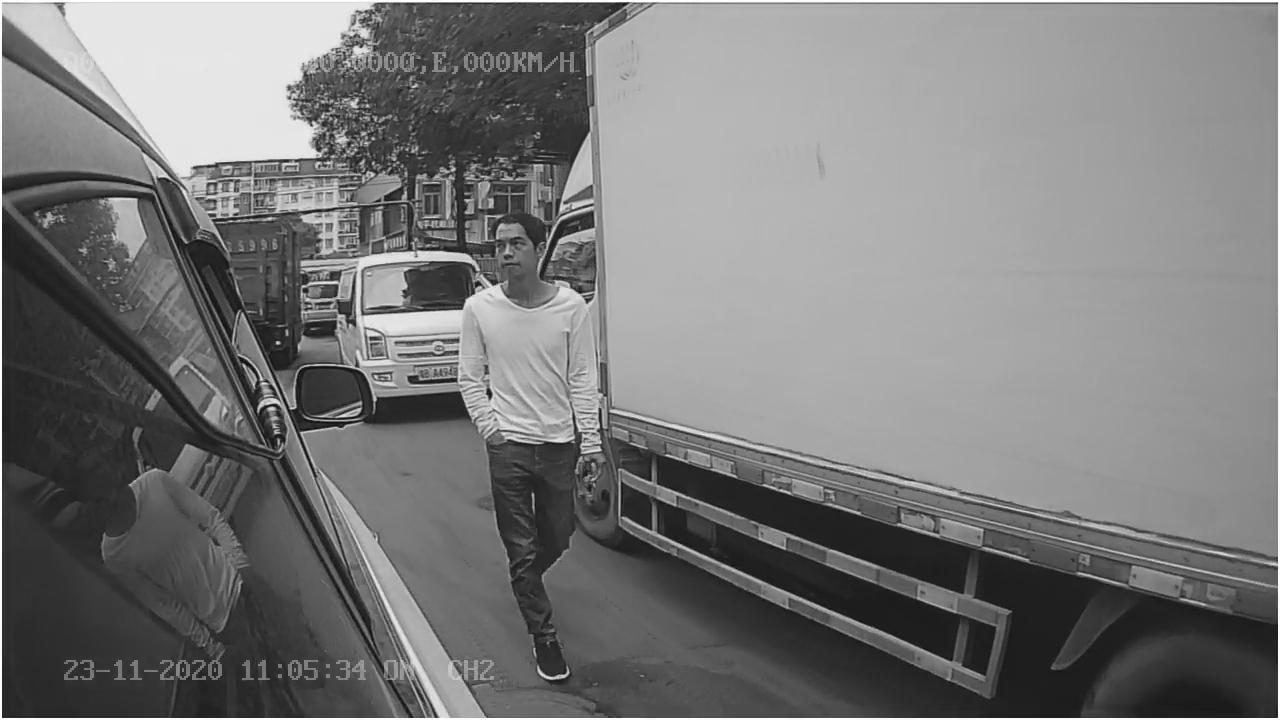person: (446, 209, 607, 688)
